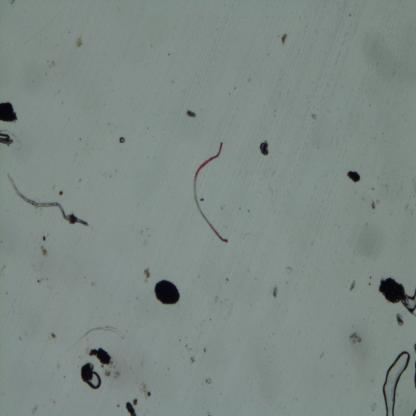Air bubble: (383, 350, 411, 415), (379, 274, 405, 306), (402, 289, 416, 318), (88, 373, 102, 390), (118, 137, 126, 144)
Background material: (153, 278, 181, 306), (0, 127, 23, 152), (88, 346, 112, 365), (0, 101, 19, 124), (348, 329, 363, 347), (80, 363, 94, 381), (346, 169, 361, 185), (125, 398, 139, 415), (41, 233, 49, 259), (106, 368, 121, 380), (259, 140, 270, 156), (141, 384, 152, 398), (369, 194, 379, 209), (395, 312, 404, 328), (142, 267, 151, 282), (186, 108, 196, 120), (75, 35, 84, 48), (309, 110, 320, 120), (271, 284, 278, 298), (280, 33, 288, 45), (349, 279, 356, 291), (205, 378, 212, 386), (190, 357, 197, 365), (50, 332, 56, 340), (203, 346, 207, 352)
Cellulose filter fibre: (7, 173, 89, 228), (67, 325, 126, 351)
Microfibre: (191, 141, 229, 244)
